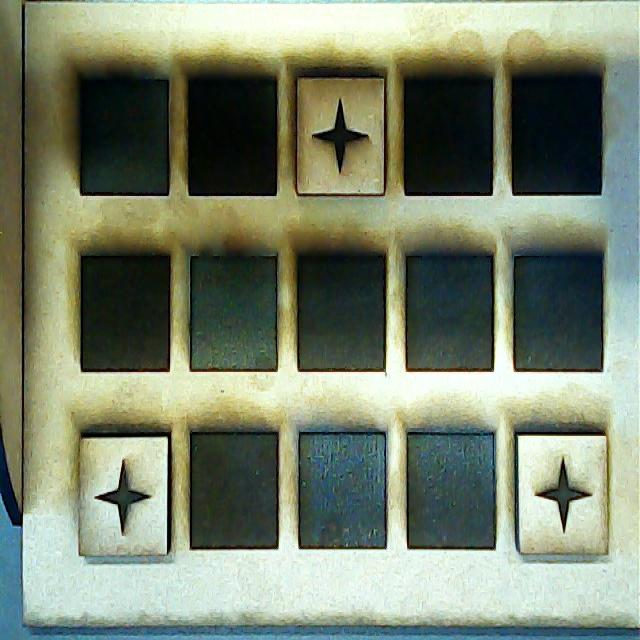star: (80, 427, 173, 558), (516, 438, 610, 559), (296, 71, 386, 196)
